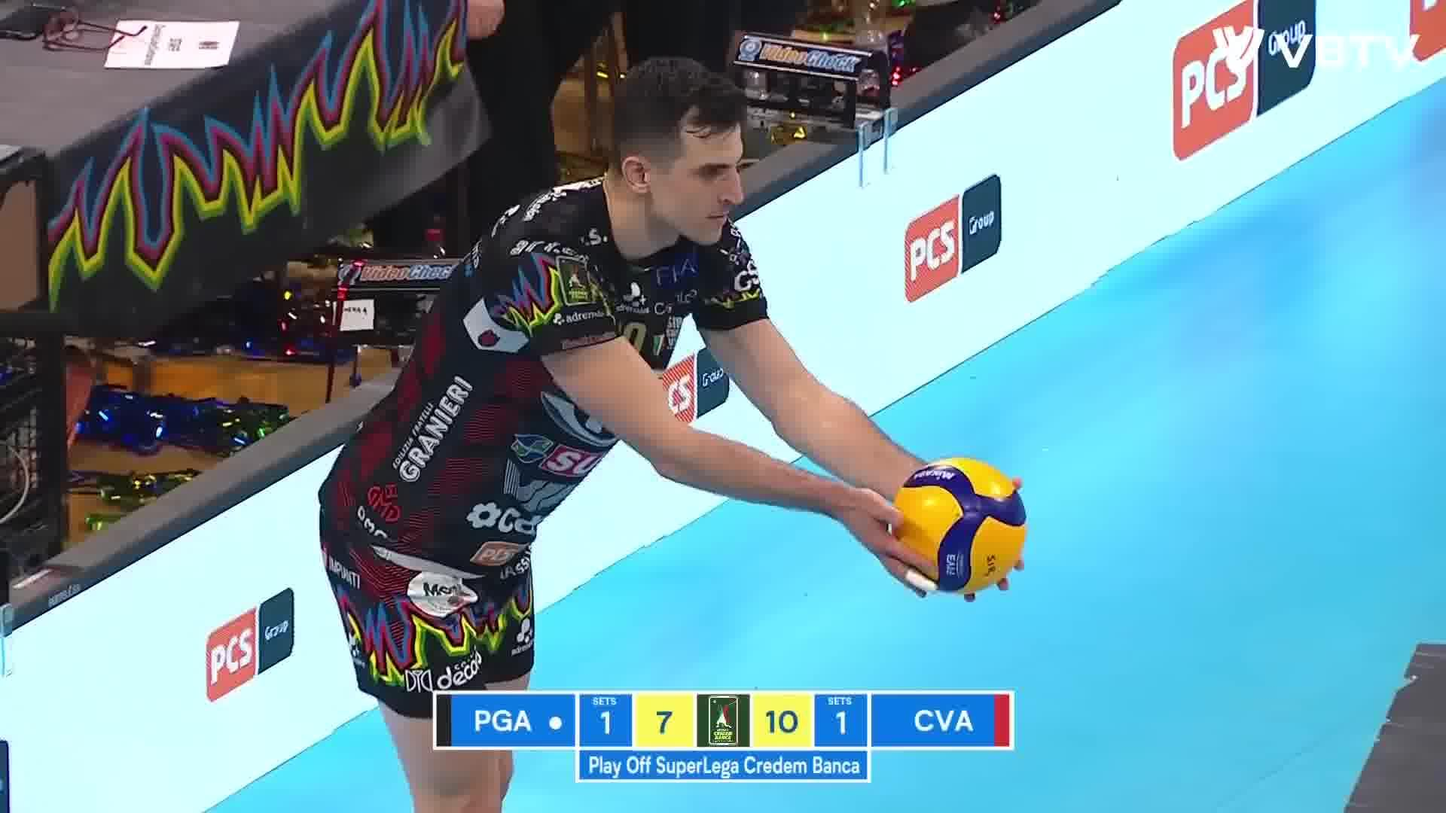balls: (888, 452, 1033, 598)
